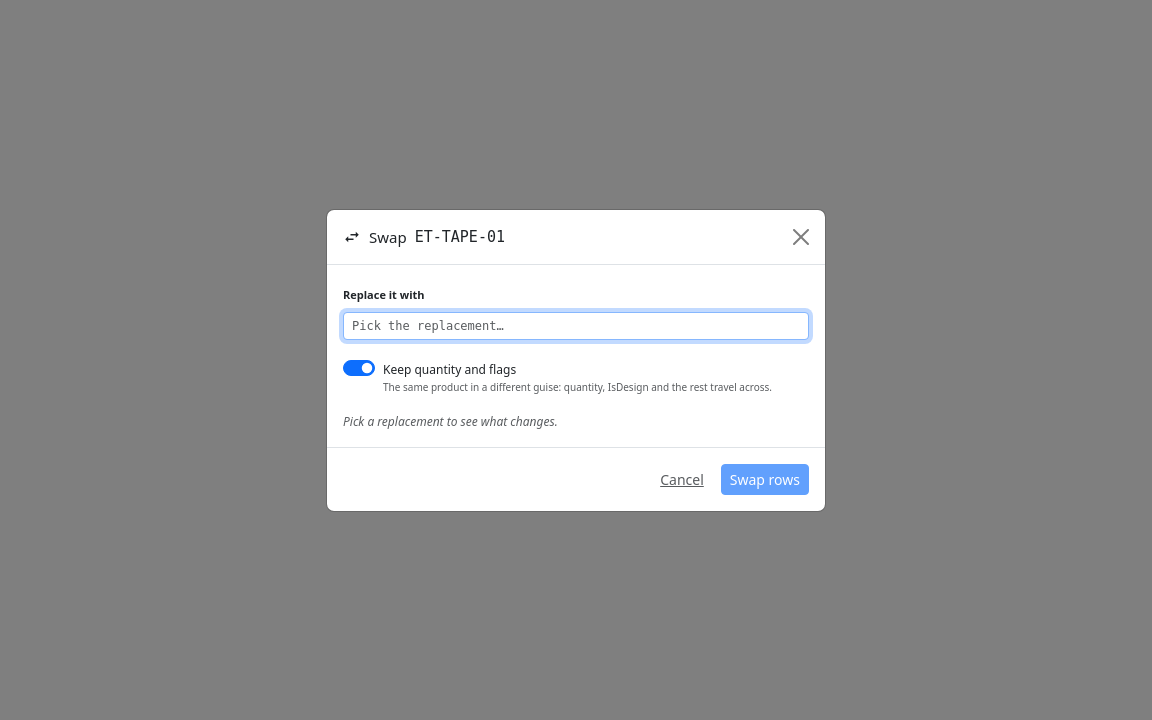
Test case: the preview tells the truth before anything is written › it names the rows and the positions, sharers included
Type "ET-TAPE-09" into the field with placeholder "Pick the replacement…".
click(576, 326); type("ET-TAPE-09")  # box [343, 312, 809, 340]
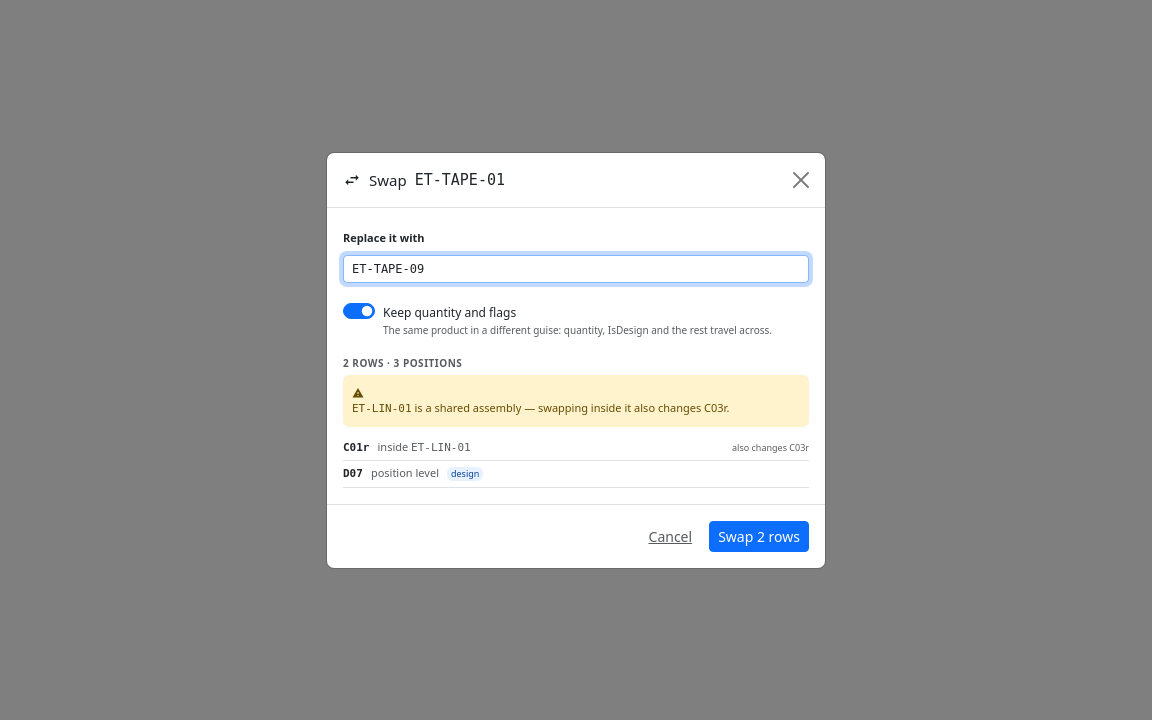
Now the text "2 rows · 3 positions" is shown, box [343, 356, 462, 370]
